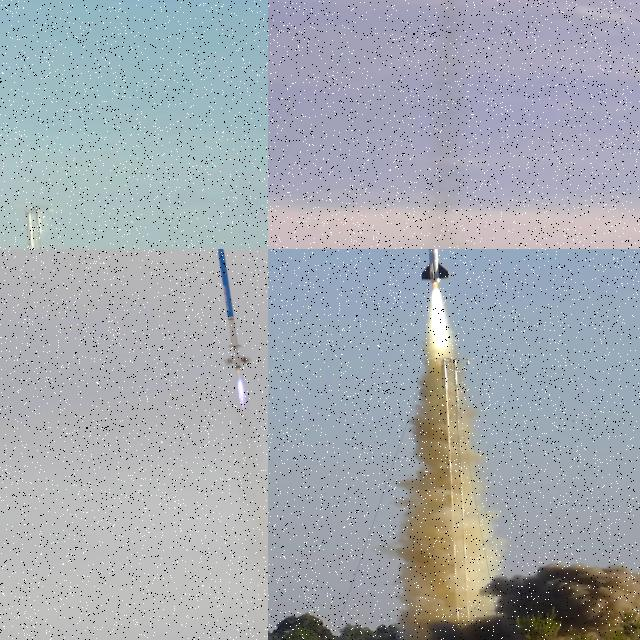Rocket: (215, 249, 253, 372), (419, 249, 447, 285)
